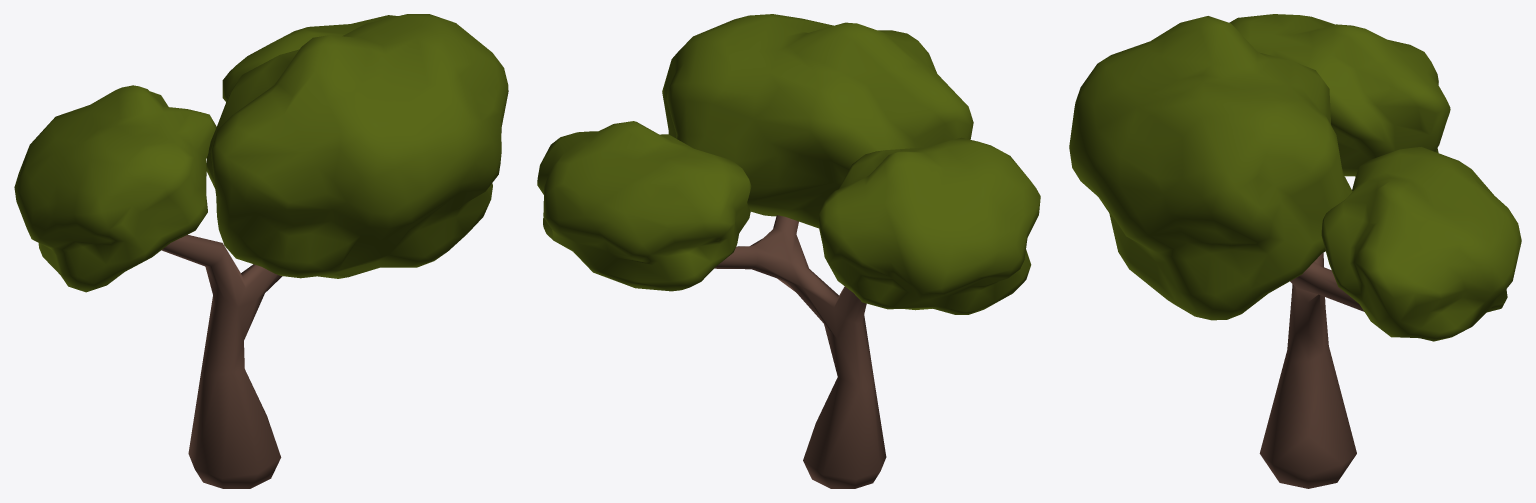
The model's file is Tree4_3.fbx.
The picture shows the model from 3 angles, left to right: view 1: azimuth 30°, elevation 25°; view 2: azimuth 150°, elevation 25°; view 3: azimuth 270°, elevation 25°; orthographic projection. The views are drawn at different scales.
Parts seen in each view (by area): view 1: Plane.004; view 2: Plane.004; view 3: Plane.004.
Boxes of the visible parts, x1,y1,x2,y2 form: Plane.004: (14, 14, 508, 488); Plane.004: (537, 14, 1040, 488); Plane.004: (1069, 14, 1521, 488).
Bounding box in the file's own units: 1353 × 1225 × 1045.
